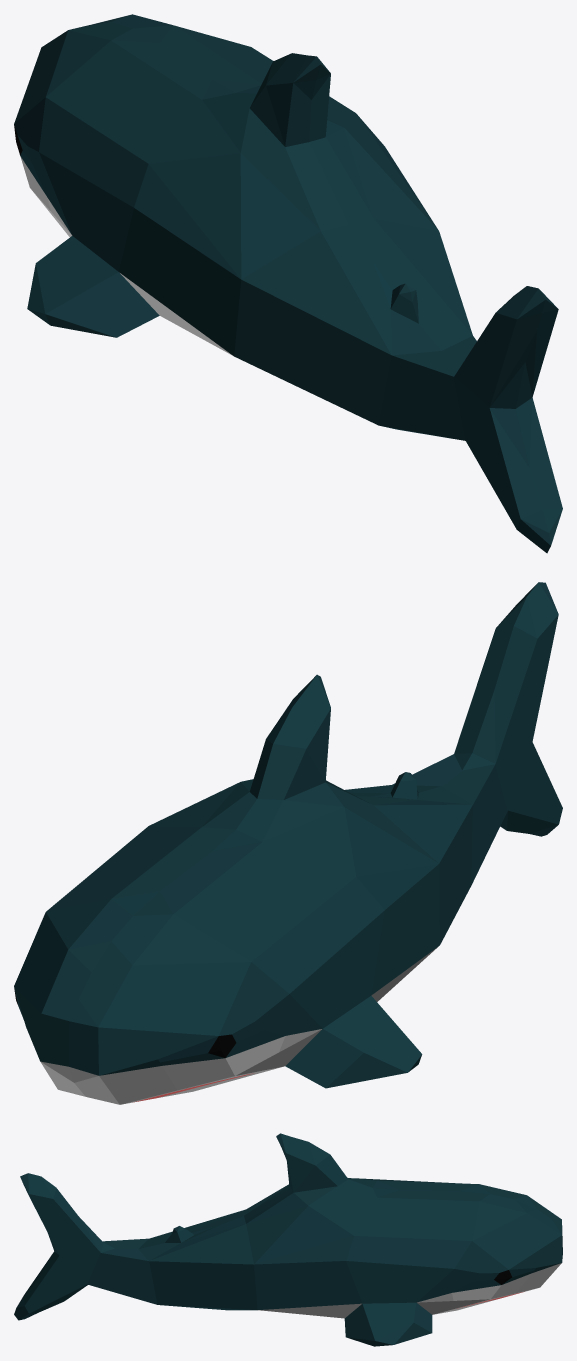
Rendered from blahaj.obj.
The picture shows the model from 3 angles, top to bottom: view 1: azimuth 30°, elevation 25°; view 2: azimuth 150°, elevation 25°; view 3: azimuth 270°, elevation 25°; orthographic projection. The views are drawn at different scales.
Parts seen in each view (by area): view 1: Plane_Plane.001; view 2: Plane_Plane.001; view 3: Plane_Plane.001.
Part boxes in pixels (<box>): Plane_Plane.001: <box>14,14,562,553</box>; Plane_Plane.001: <box>14,582,562,1104</box>; Plane_Plane.001: <box>14,1133,562,1346</box>.
Size of the model in its own units: 1.6 by 1.32 by 3.52.
